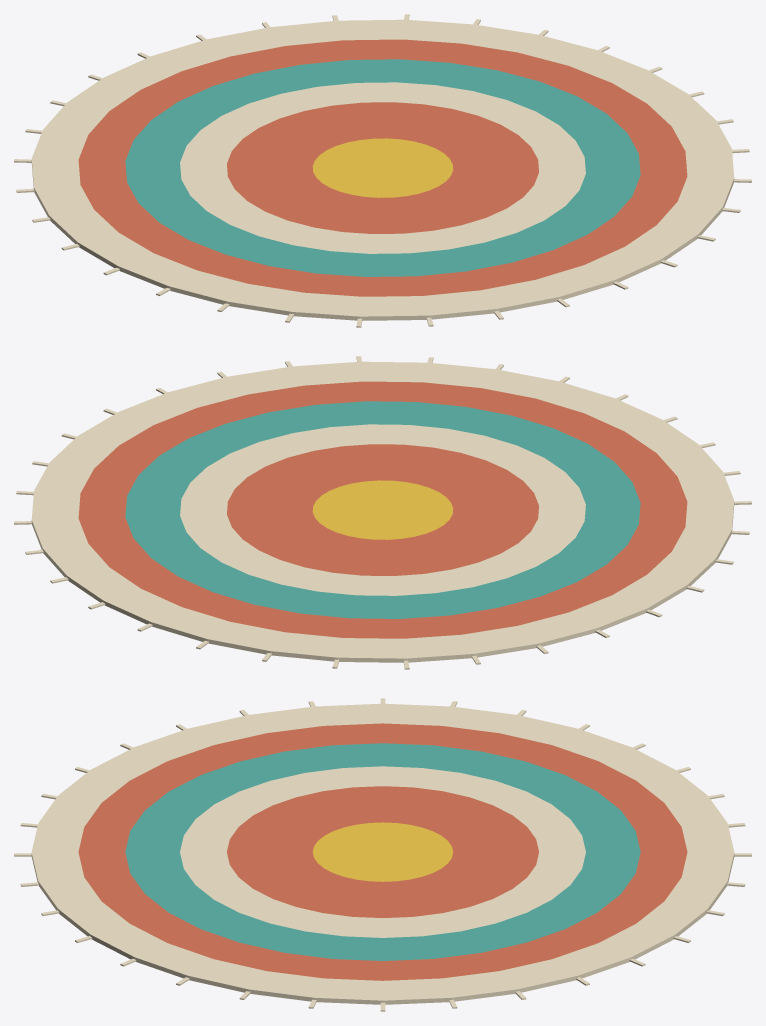
File: home_rug_v01.glb
3 renders of one model, top to bottom at view 1: azimuth 30°, elevation 25°; view 2: azimuth 150°, elevation 25°; view 3: azimuth 270°, elevation 25°, orthographic.
Parts seen in each view (by area): view 1: rug; view 2: rug; view 3: rug.
Boxes of the visible parts, x1,y1,x2,y2 form: rug: (14, 14, 751, 327); rug: (14, 356, 751, 669); rug: (14, 698, 751, 1011).
Size of the model in its own units: 1.89 by 0.012 by 1.89.
